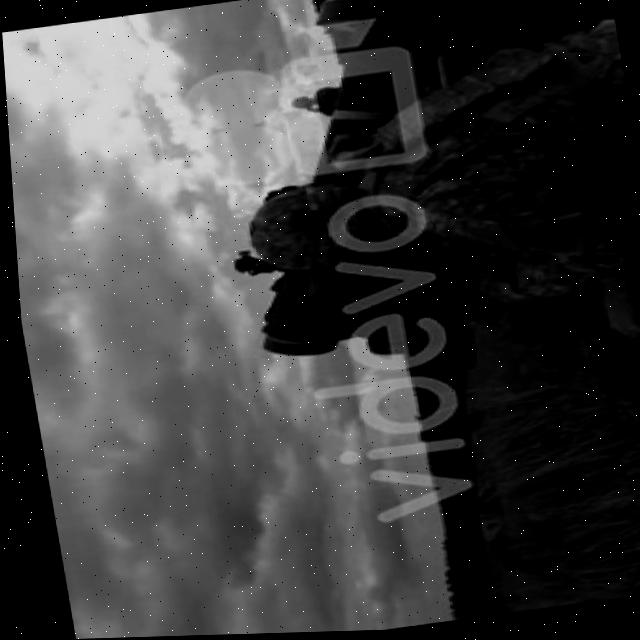rocket: (278, 0, 511, 186)
